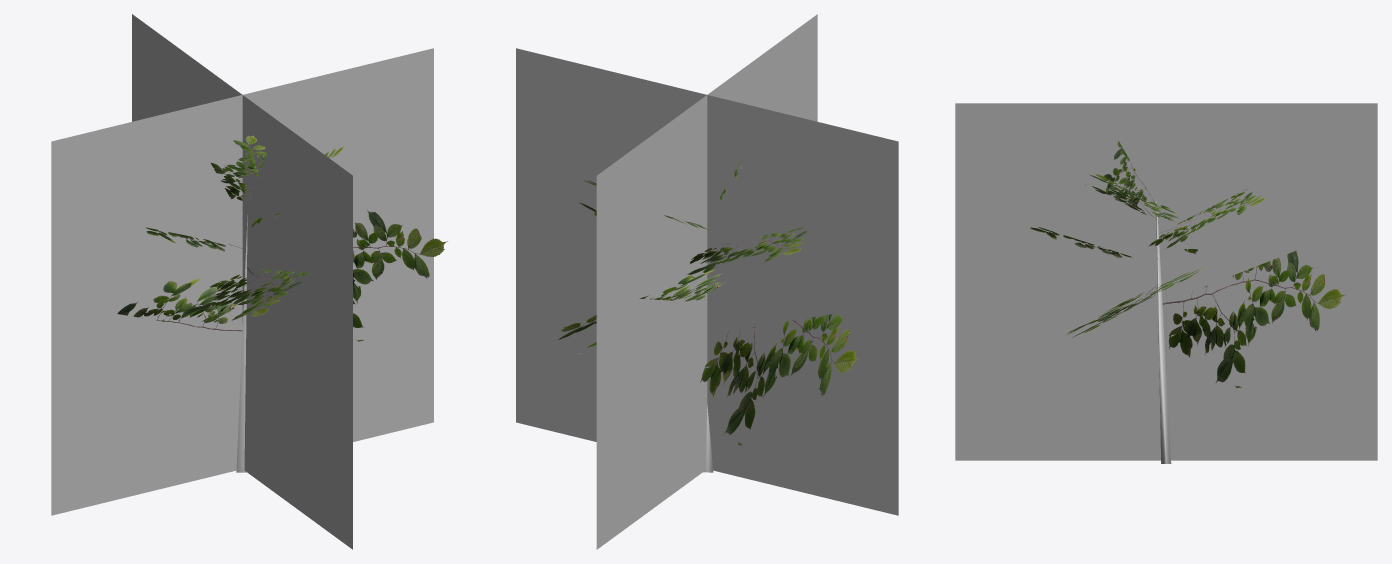
Rendered from Tree-Beech5A-mobile.fbx.
The picture shows the model from 3 angles, left to right: view 1: azimuth 30°, elevation 25°; view 2: azimuth 150°, elevation 25°; view 3: azimuth 270°, elevation 25°; orthographic projection. The views are drawn at different scales.
Visible parts, largest first — view 1: Billboard-BeechA, Tree-Beech5A-mobile_LOD0; view 2: Billboard-BeechA, Tree-Beech5A-mobile_LOD0; view 3: Billboard-BeechA, Tree-Beech5A-mobile_LOD0.
Boxes of the visible parts, bbox=[...] form: Billboard-BeechA: bbox=[51, 14, 433, 549]; Tree-Beech5A-mobile_LOD0: bbox=[117, 135, 447, 472]; Billboard-BeechA: bbox=[516, 14, 898, 549]; Tree-Beech5A-mobile_LOD0: bbox=[558, 102, 858, 472]; Billboard-BeechA: bbox=[955, 103, 1377, 460]; Tree-Beech5A-mobile_LOD0: bbox=[1030, 141, 1345, 463].
Size of what is drawn, in the model's own units: 709 by 666 by 709.
